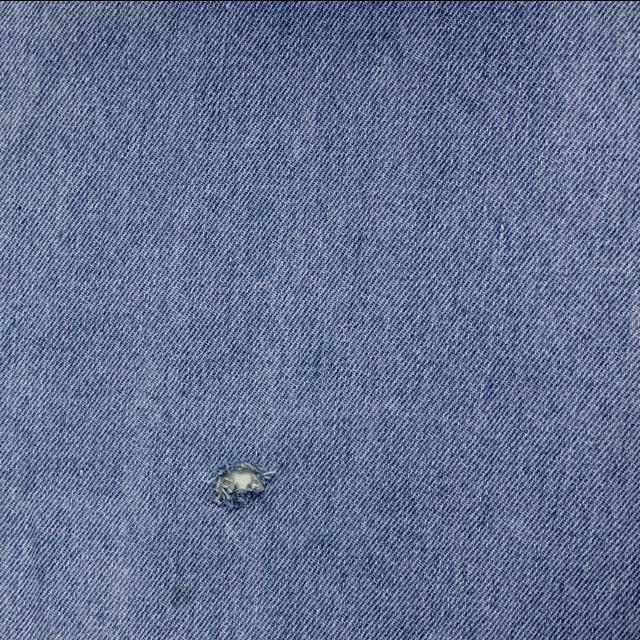Hole: (208, 462, 276, 508)
